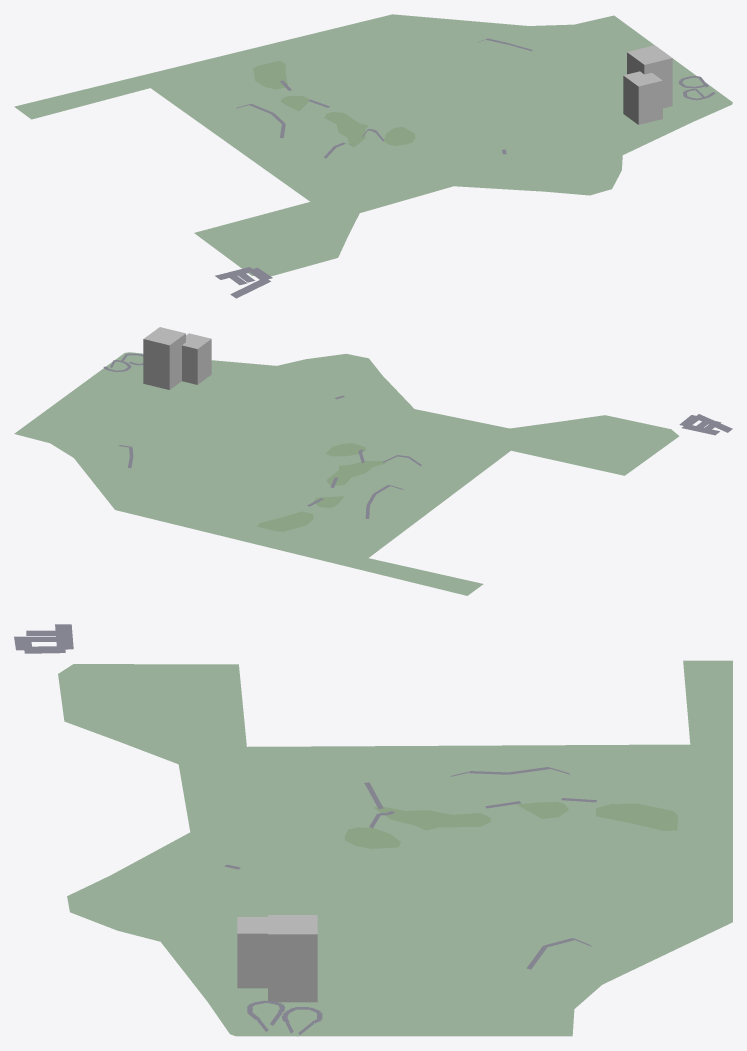
The model's file is 123_125_mid.glb.
3 renders of one model, top to bottom at view 1: azimuth 30°, elevation 25°; view 2: azimuth 150°, elevation 25°; view 3: azimuth 270°, elevation 25°, orthographic. The views are drawn at different scales.
Bounding box in the file's own units: 508 × 41.27 × 388.
